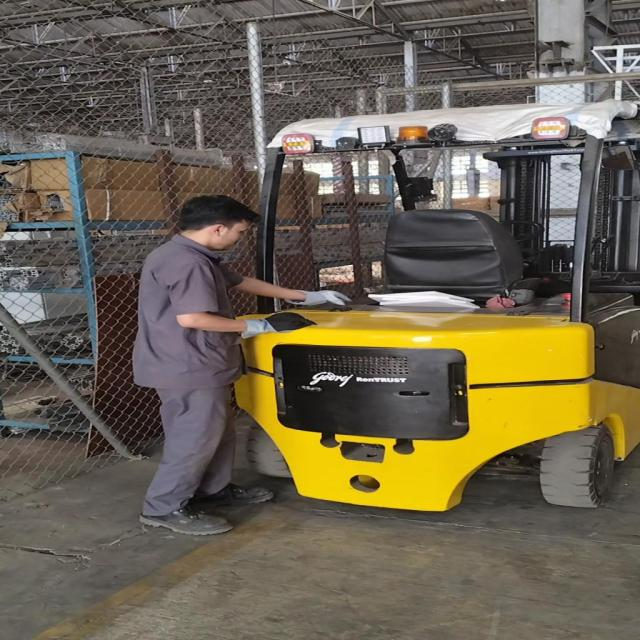Gloves-Detection: (240, 310, 310, 345), (289, 281, 353, 314)
